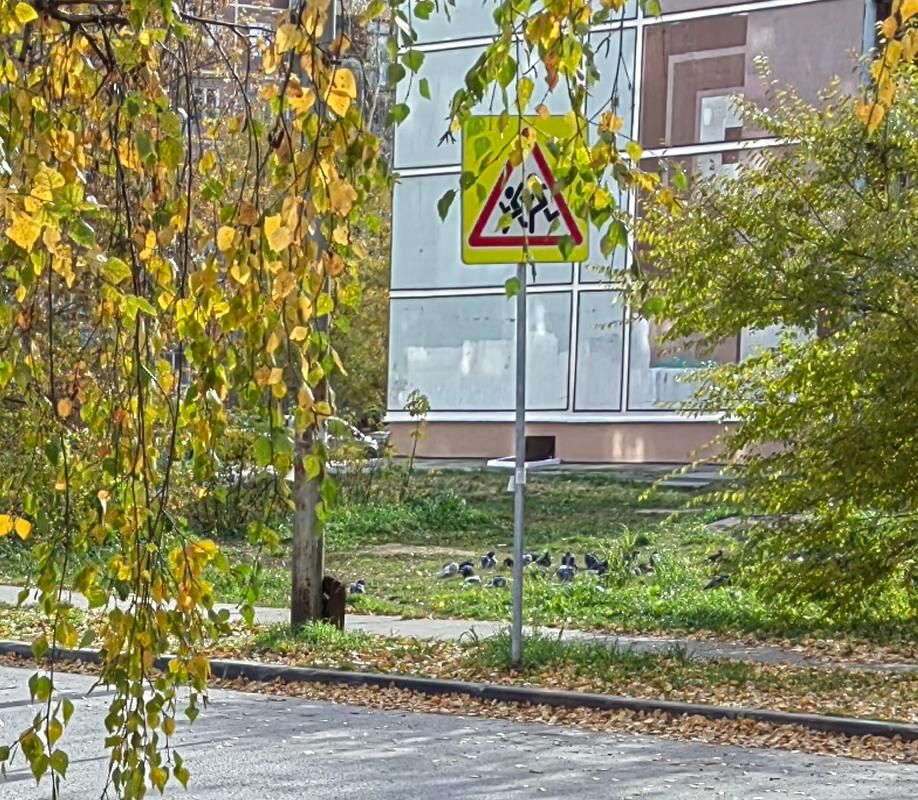obstructed_road_sign: (461, 115, 589, 265)
